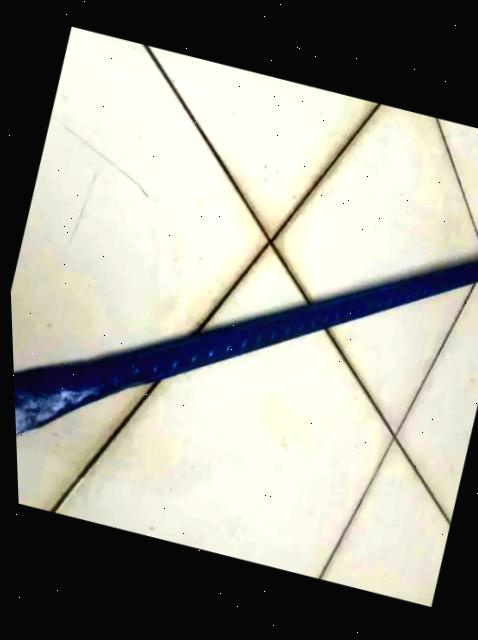crow bar: (11, 248, 478, 435)
